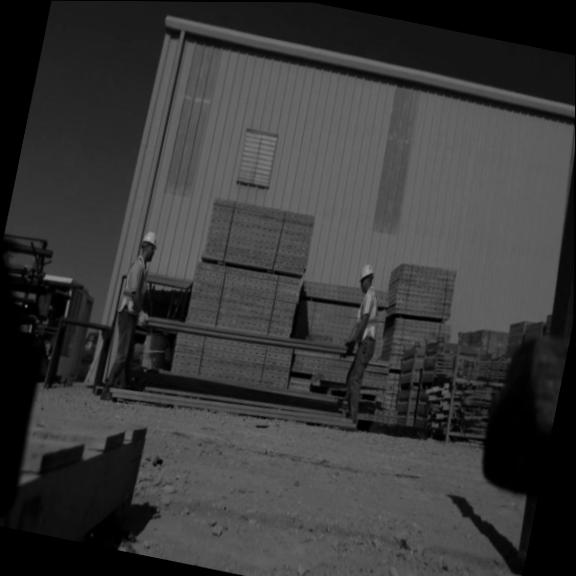safety_vest: (116, 255, 149, 316), (351, 285, 384, 346)
